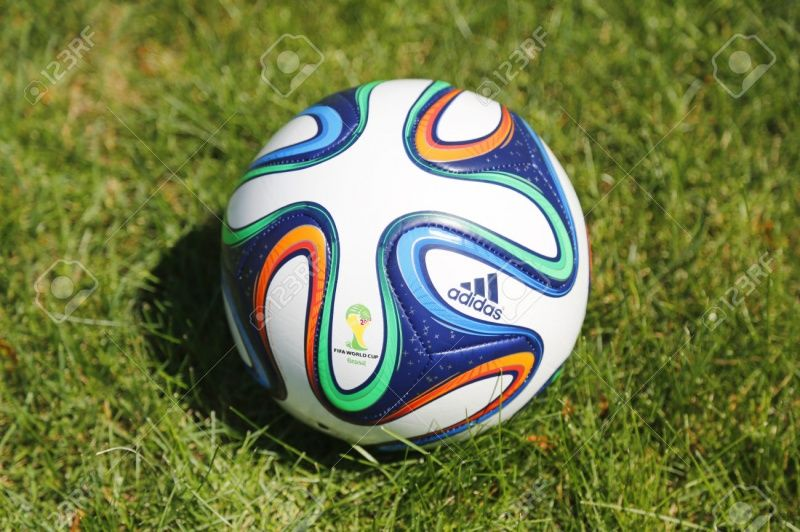football: (218, 75, 591, 454)
